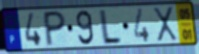4: (25, 12, 44, 48), (133, 7, 151, 44)
9: (75, 10, 95, 47)
L: (99, 8, 123, 46)
P: (44, 11, 67, 49)
X: (151, 6, 179, 44)
